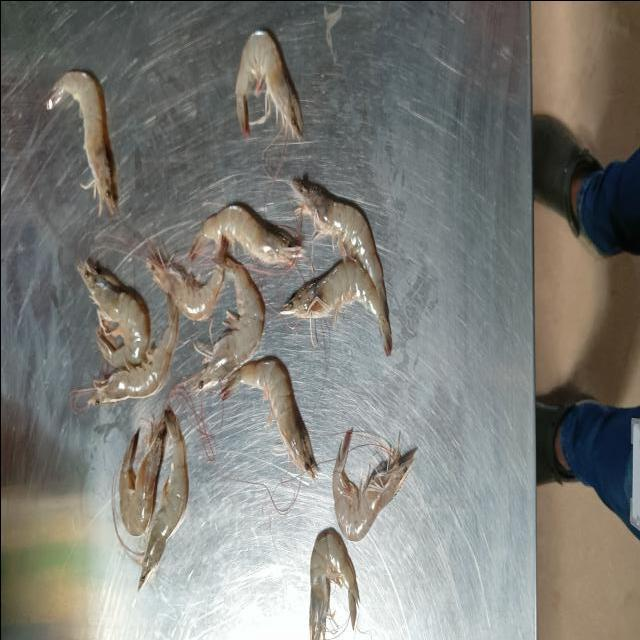shrimp: (292, 179, 386, 318), (220, 357, 316, 481), (280, 259, 391, 354), (45, 69, 116, 213), (86, 295, 178, 405), (191, 255, 264, 392), (331, 430, 414, 540), (138, 408, 188, 589), (76, 259, 150, 368), (235, 29, 301, 138), (189, 204, 301, 264), (309, 527, 358, 640), (119, 419, 166, 536), (145, 253, 224, 319)
